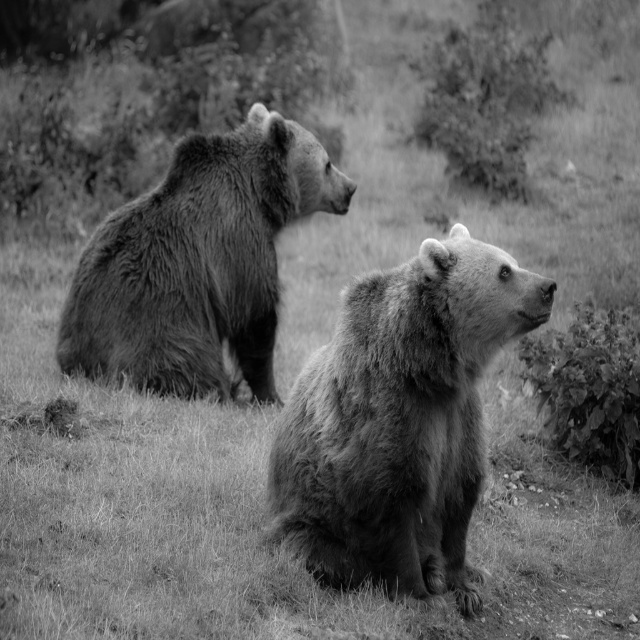Brown bear: (263, 223, 557, 619), (54, 100, 356, 404)
